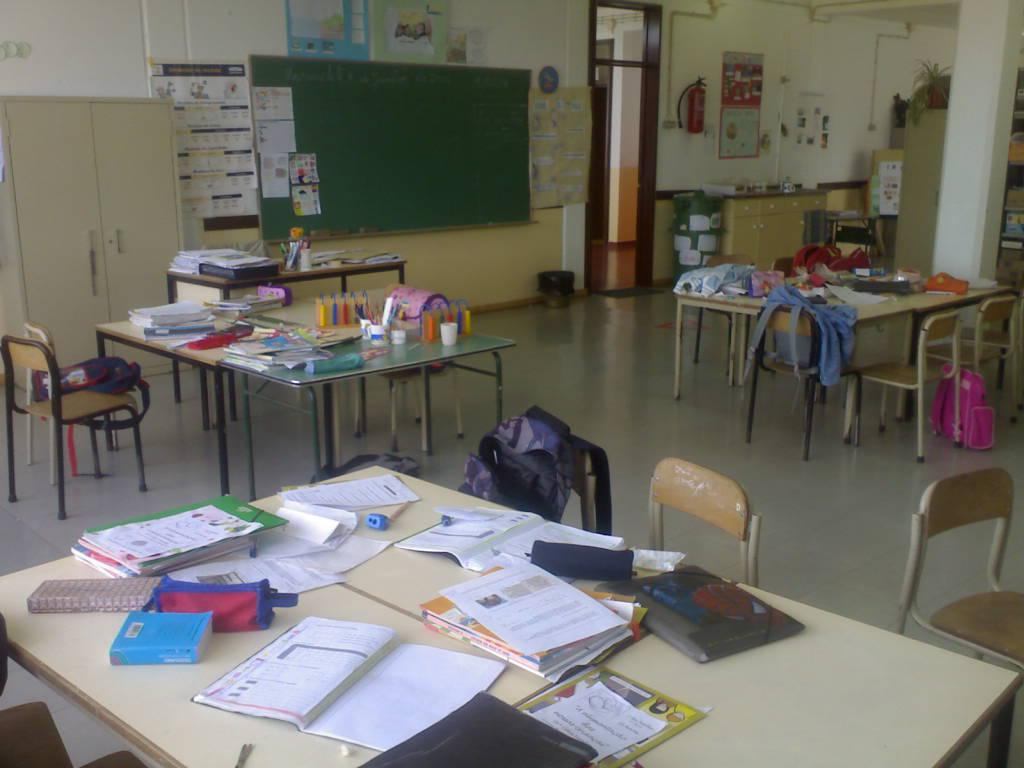Armario: (6, 104, 187, 376)
Bote de Basura: (671, 175, 728, 283), (535, 266, 583, 311)
Puerta: (594, 66, 644, 283)
